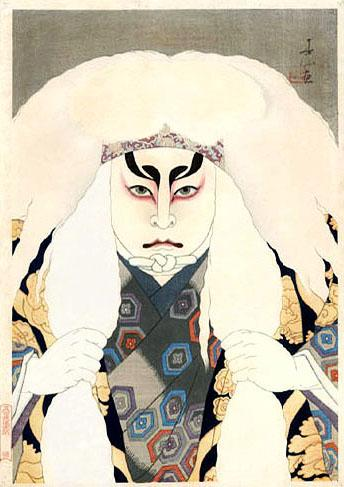person: (23, 73, 341, 487)
